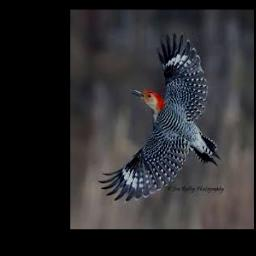Woodpecker: (98, 32, 221, 203)
